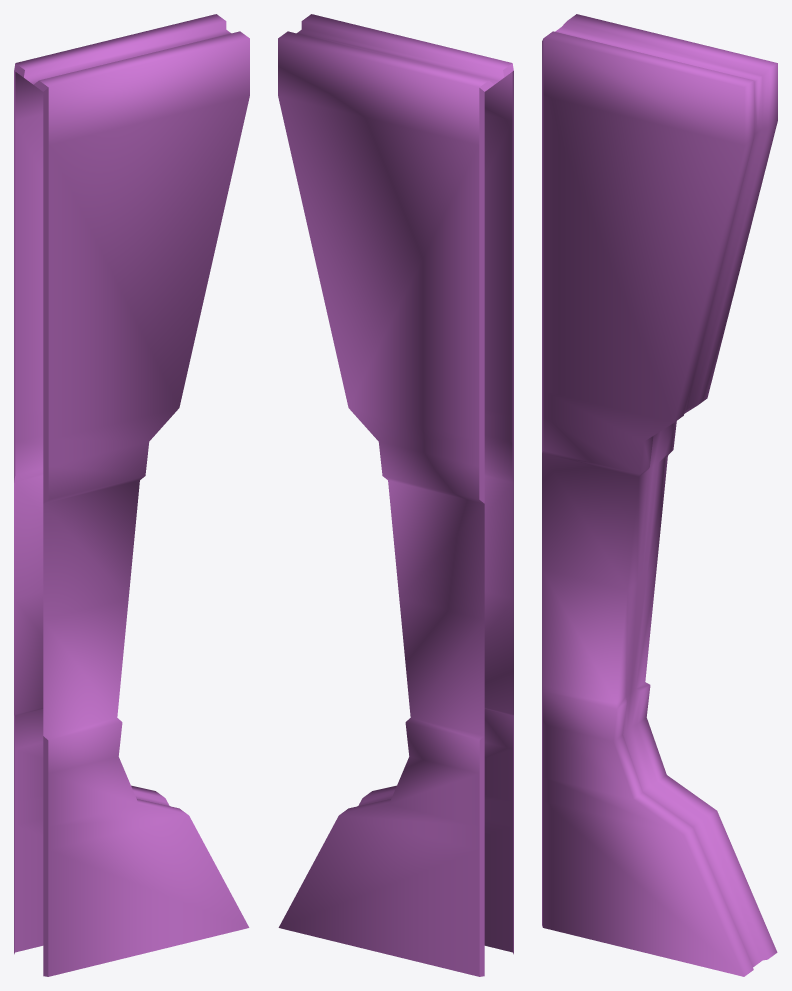
File: RoomWallDivider.fbx
The picture shows the model from 3 angles, left to right: view 1: azimuth 30°, elevation 25°; view 2: azimuth 150°, elevation 25°; view 3: azimuth 330°, elevation 25°; orthographic projection.
Visible parts, largest first — view 1: RoomWallDivider; view 2: RoomWallDivider; view 3: RoomWallDivider.
Part boxes in pixels (bbox=[...]): RoomWallDivider: bbox=[14, 14, 249, 976]; RoomWallDivider: bbox=[278, 14, 513, 976]; RoomWallDivider: bbox=[542, 14, 777, 976].
Bounding box in the file's own units: 1.02 × 4.22 × 0.2871.
